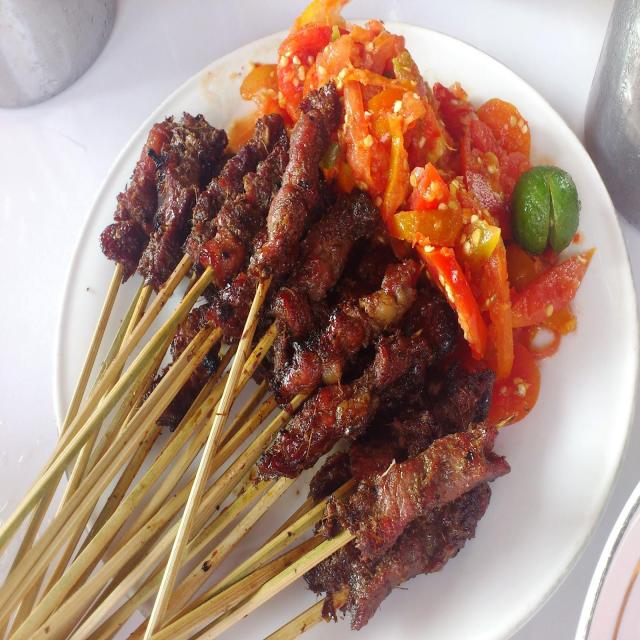Sate: (13, 119, 522, 640)
